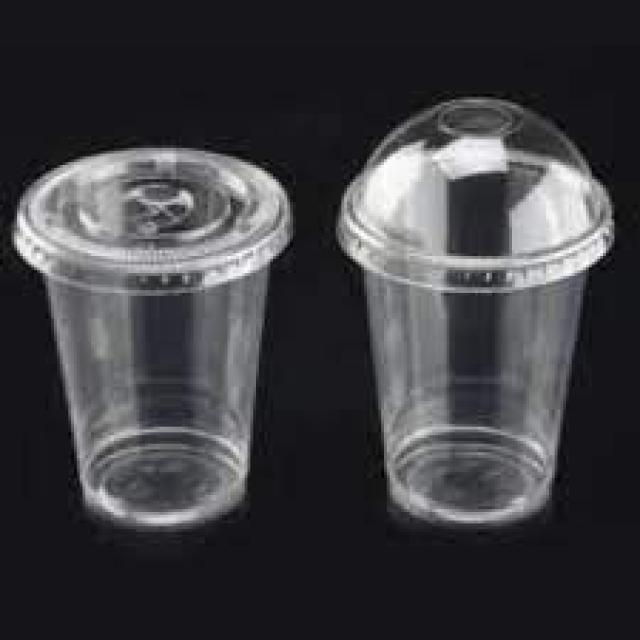plastic: (338, 98, 614, 523), (14, 148, 292, 527)
